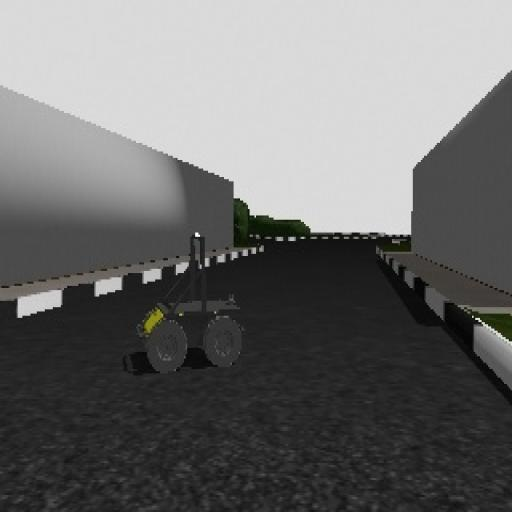huskya200: (129, 229, 254, 386)
